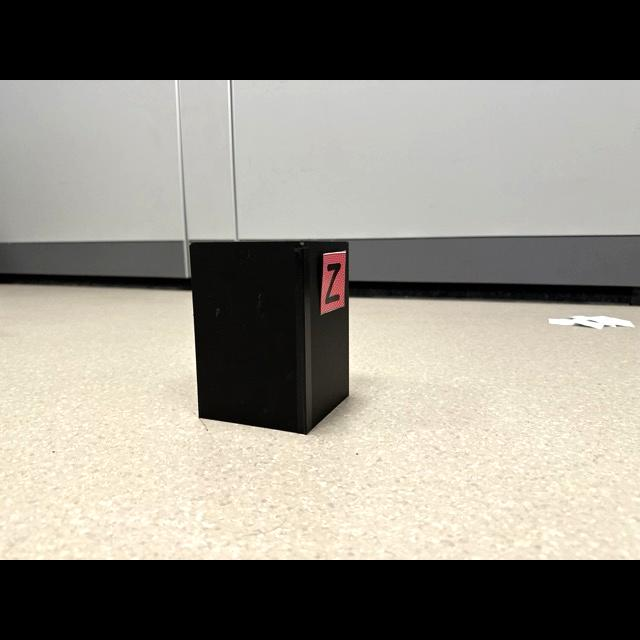Z: (326, 262, 341, 304)
